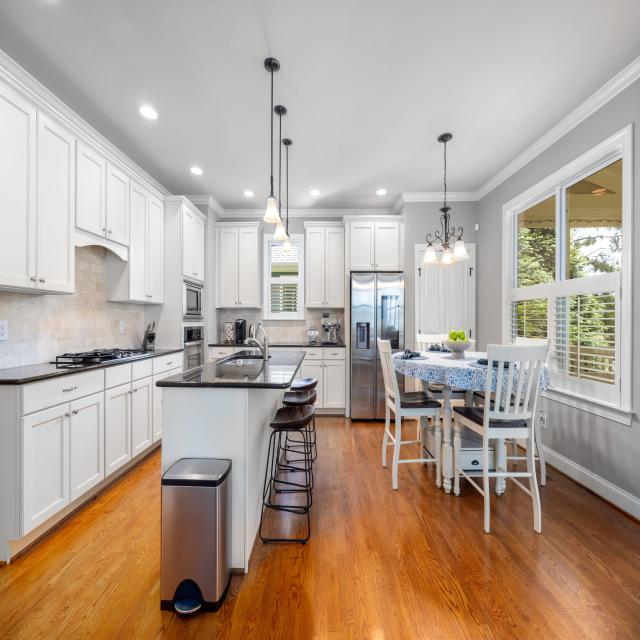Appliance_Fridge: (349, 271, 405, 423)
Appliance_Microwave: (183, 275, 203, 320)
Appliance_Oven: (184, 319, 208, 370)
Appliance_Sink: (217, 323, 270, 366)
Appliance_Stove: (57, 348, 155, 371)
Cabinet_Flat: (18, 350, 185, 416), (270, 346, 347, 360), (208, 346, 261, 360), (209, 345, 246, 360)
Cabinet_Shaker: (0, 98, 164, 305), (23, 368, 184, 536), (302, 220, 402, 311), (216, 223, 261, 309), (296, 360, 346, 408), (180, 200, 205, 290)
Countertop_Granite: (0, 348, 184, 384), (156, 349, 307, 389), (268, 342, 347, 347), (209, 341, 241, 347)
